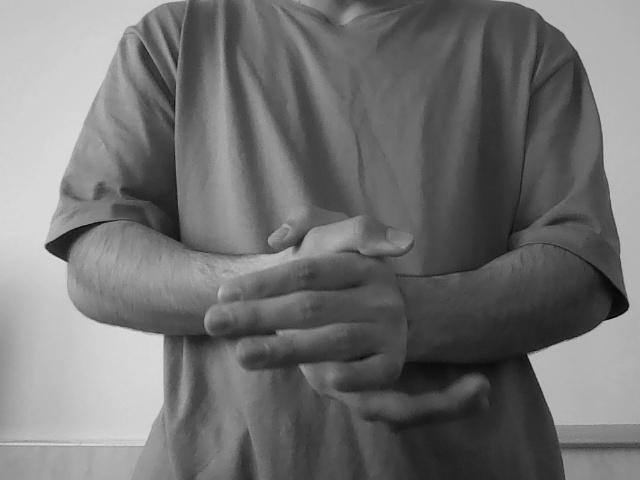friend: (196, 205, 423, 419)
